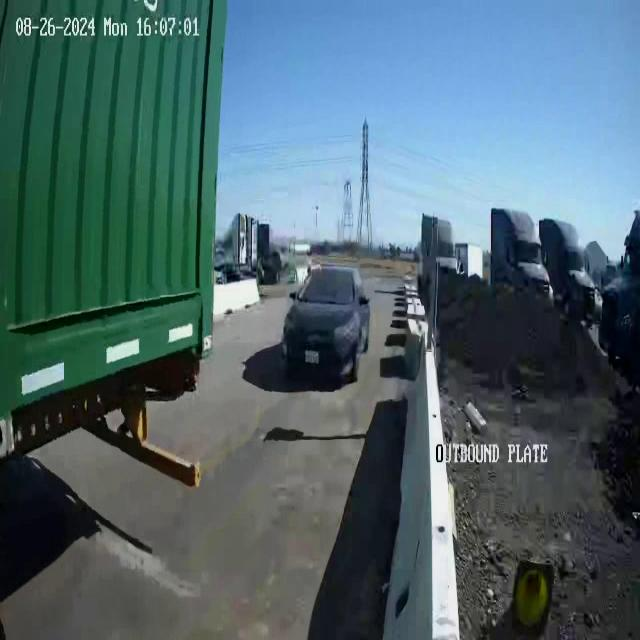TRUCK_CONTAINER: (1, 1, 228, 472)
